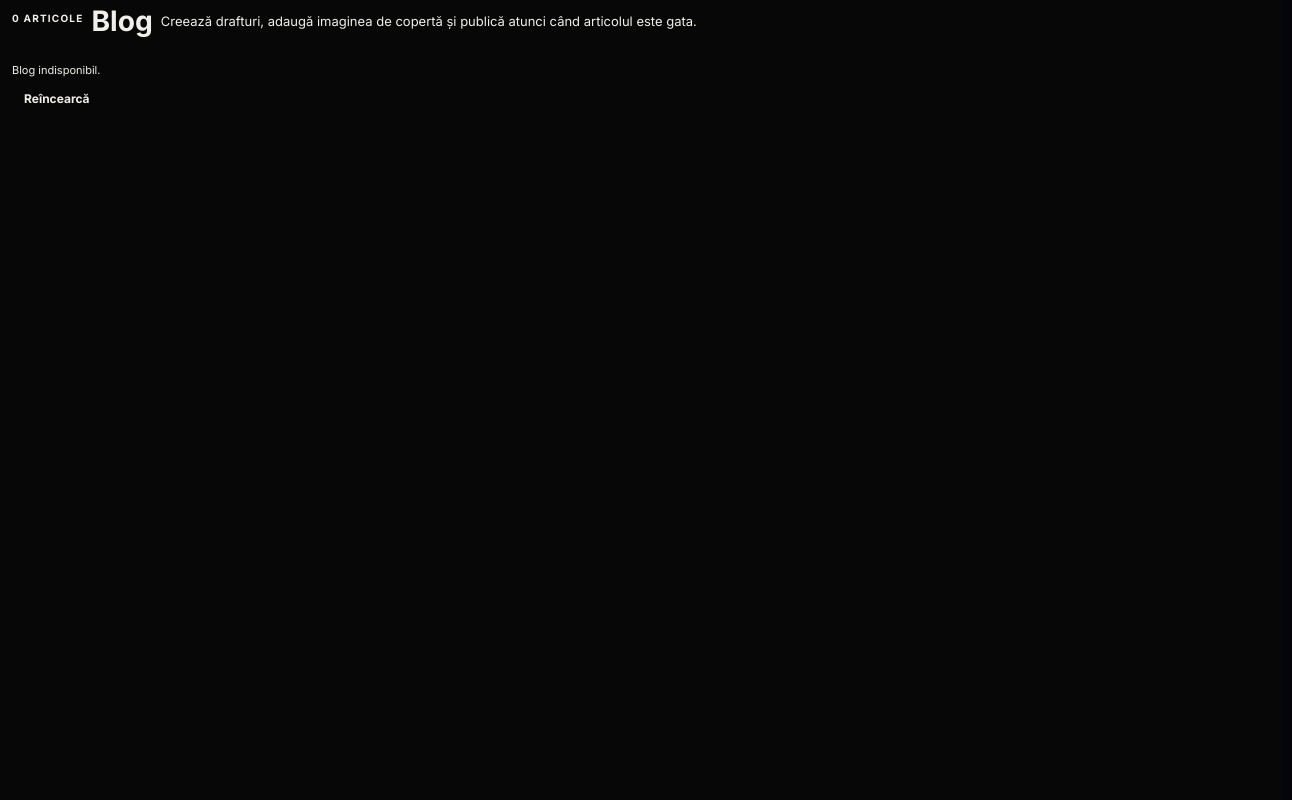
Test: initial list loading and failure cannot be mistaken for an empty blog and can be retried
The width and height of the screenshot is (1292, 800).
Later steps or results of the test are not shown.
expect the message "Blog indisponibil." is shown: met, box [12,63,100,77]
Click the button "Reîncearcă". click: (57,98)
box: [12,80,102,118]
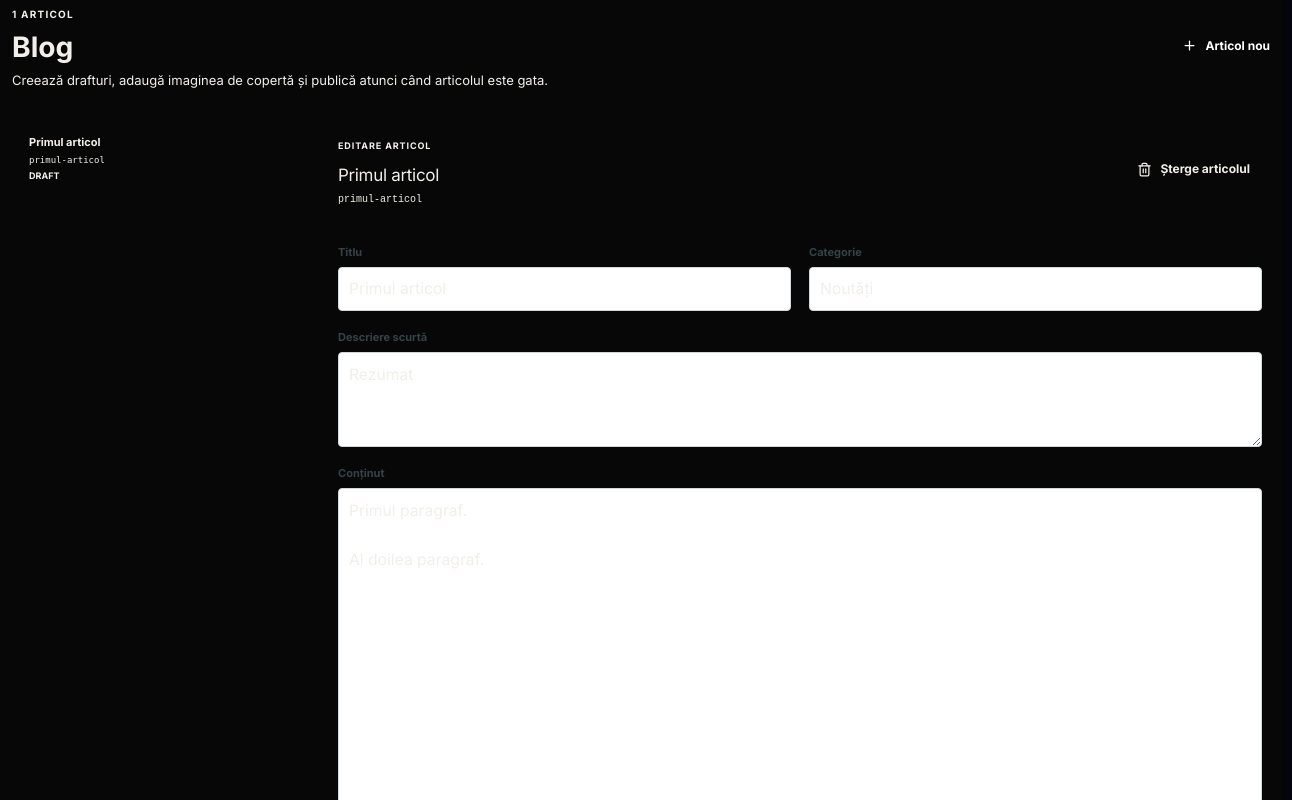
expect the label "Titlu" is shown: met, box [338,243,791,311]
expect the field labelled "Titlu" holds "Primul articol": met, box [338,267,791,311]
